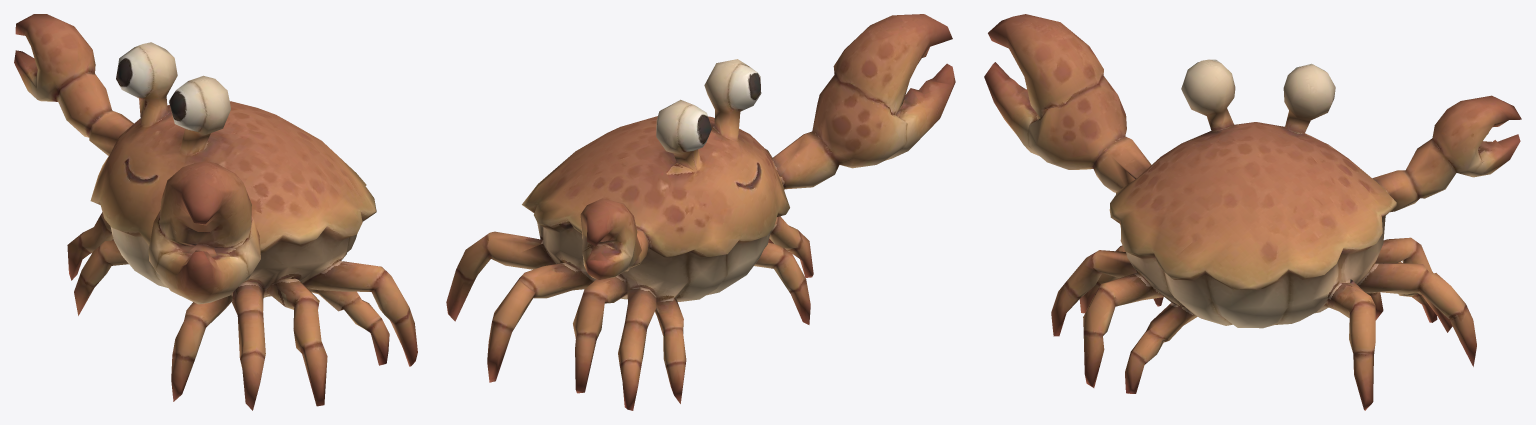
File: turtle-mt-crab.glb
The picture shows the model from 3 angles, left to right: view 1: azimuth 30°, elevation 25°; view 2: azimuth 150°, elevation 25°; view 3: azimuth 270°, elevation 25°; orthographic projection. The views are drawn at different scales.
Visible parts, largest first — view 1: animal-crab_Walk; view 2: animal-crab_Walk; view 3: animal-crab_Walk.
Boxes of the visible parts, <box> form: animal-crab_Walk: <box>14,14,417,410</box>; animal-crab_Walk: <box>446,14,955,410</box>; animal-crab_Walk: <box>984,14,1521,410</box>.
Size of the model in its own units: 0.0743 by 0.0605 by 0.1065.
1 material, 1 textured.
